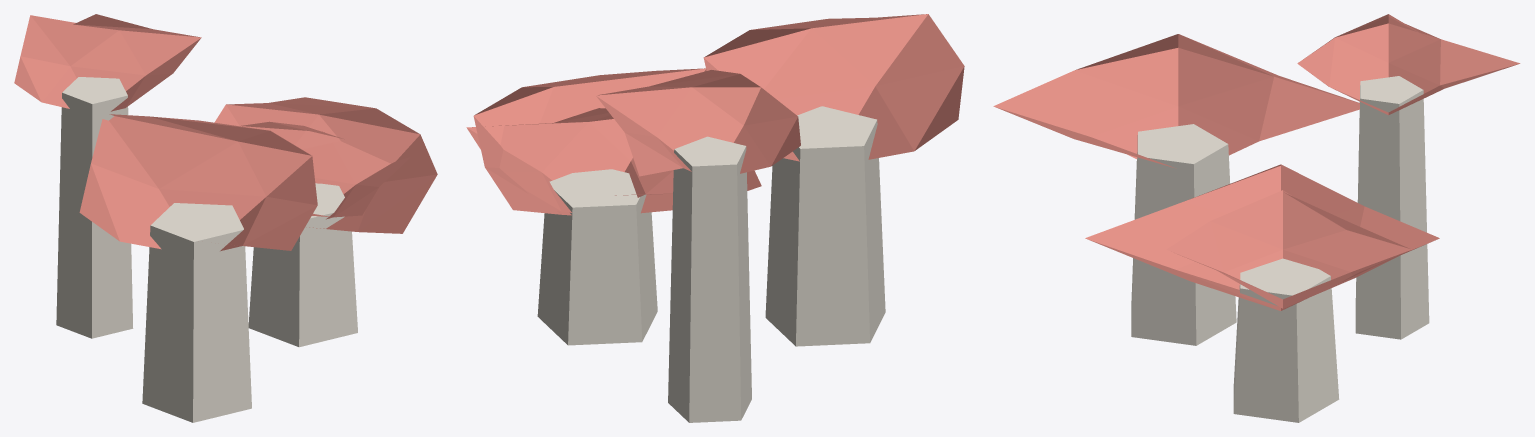
The model's file is mushroom_v30.glb.
The picture shows the model from 3 angles, left to right: view 1: azimuth 30°, elevation 25°; view 2: azimuth 150°, elevation 25°; view 3: azimuth 270°, elevation 25°; orthographic projection. The views are drawn at different scales.
Parts seen in each view (by area): view 1: lod0; view 2: lod0; view 3: lod0.
Part boxes in pixels (<box>): lod0: <box>14,14,437,422</box>; lod0: <box>466,14,964,422</box>; lod0: <box>993,14,1520,422</box>.
Size of what is drawn, in the model's own units: 0.6091 by 0.4507 by 0.697.
